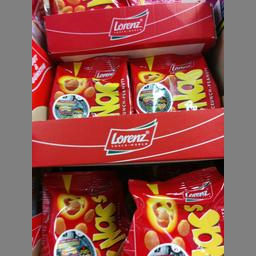nuts: (122, 166, 223, 255), (38, 169, 126, 255), (128, 50, 219, 112), (44, 56, 132, 118)
